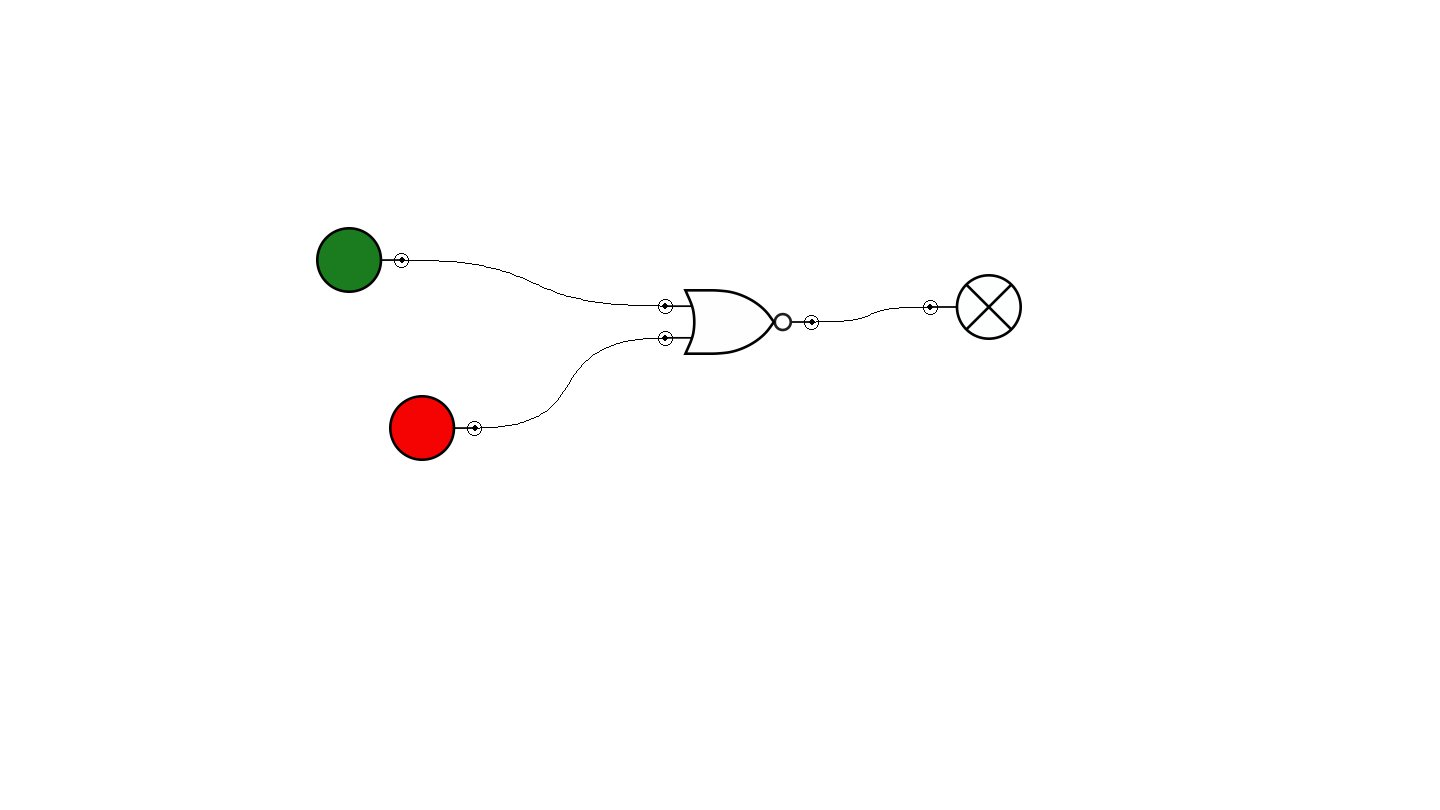bulb: (923, 274, 1022, 340)
nor: (658, 289, 819, 355)
switch_False: (389, 395, 482, 461)
switch_True: (316, 227, 409, 293)
